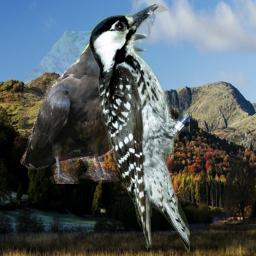Crow: (20, 31, 148, 184)
Woodpecker: (88, 3, 190, 253)
